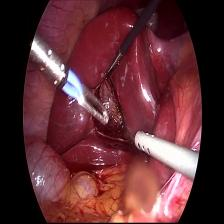Bipolar: (34, 35, 110, 136)
Grasper: (105, 46, 127, 85)
Irrigator: (132, 122, 162, 162)
